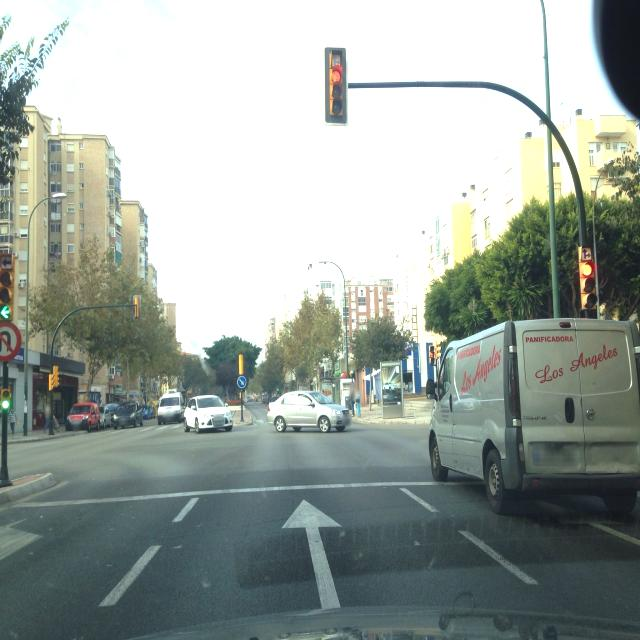car: (425, 316, 640, 515), (266, 390, 352, 433), (184, 394, 233, 434), (65, 402, 102, 433), (157, 393, 186, 425), (113, 402, 143, 428), (98, 404, 115, 428), (140, 404, 152, 420)
